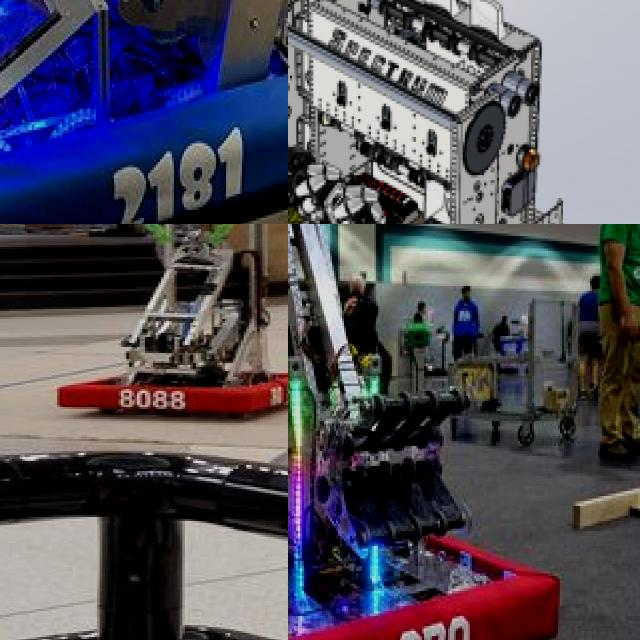FRC-Robots: (288, 224, 588, 640), (288, 0, 633, 224), (0, 0, 288, 224), (79, 224, 288, 450)
